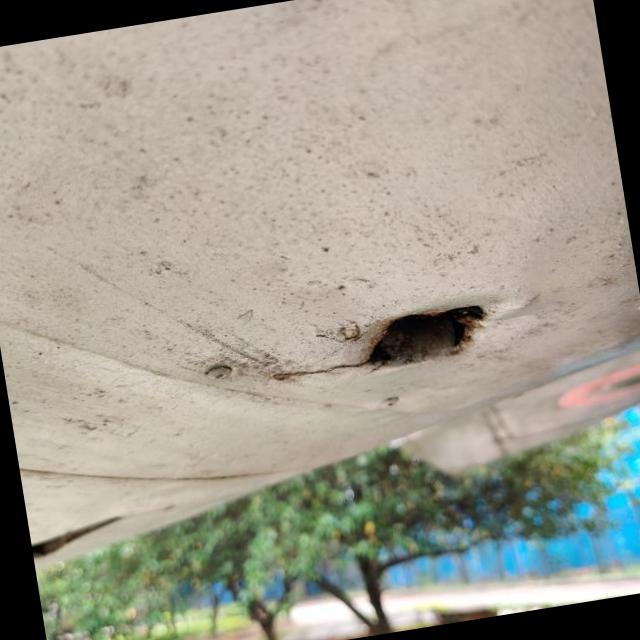Crack: (367, 306, 487, 366)
